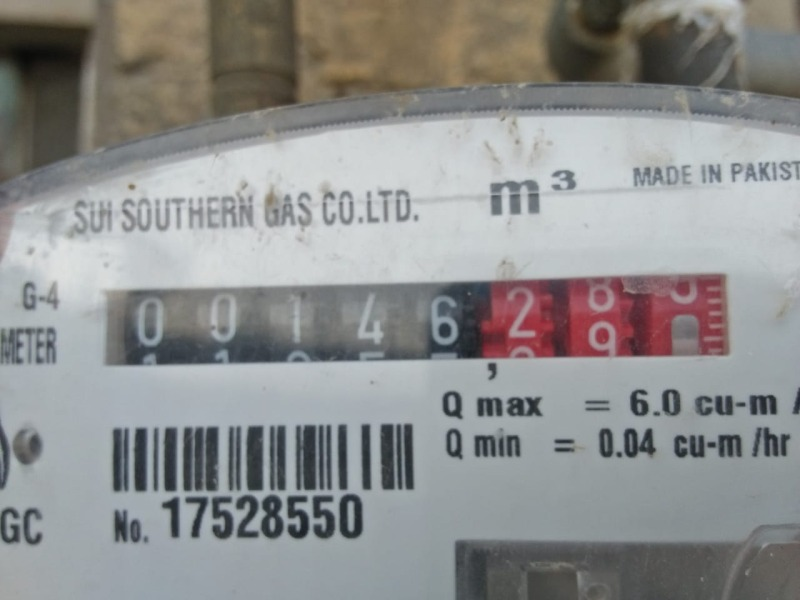ssgc: (101, 275, 733, 370)
